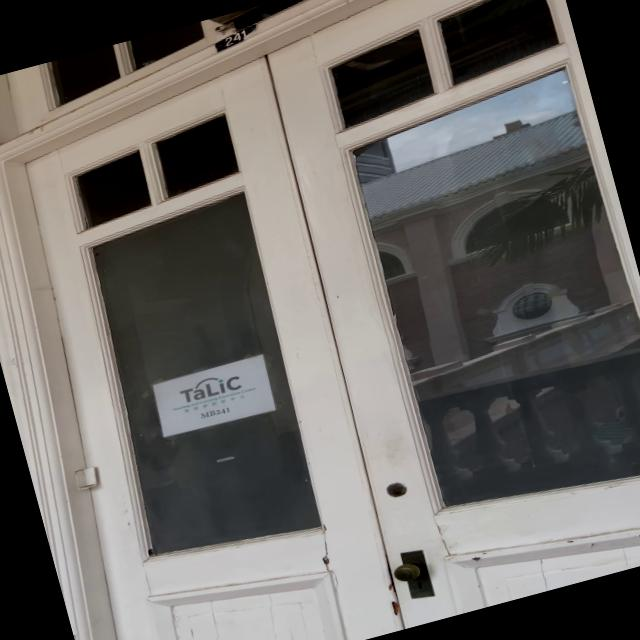room241: (210, 22, 262, 52)
